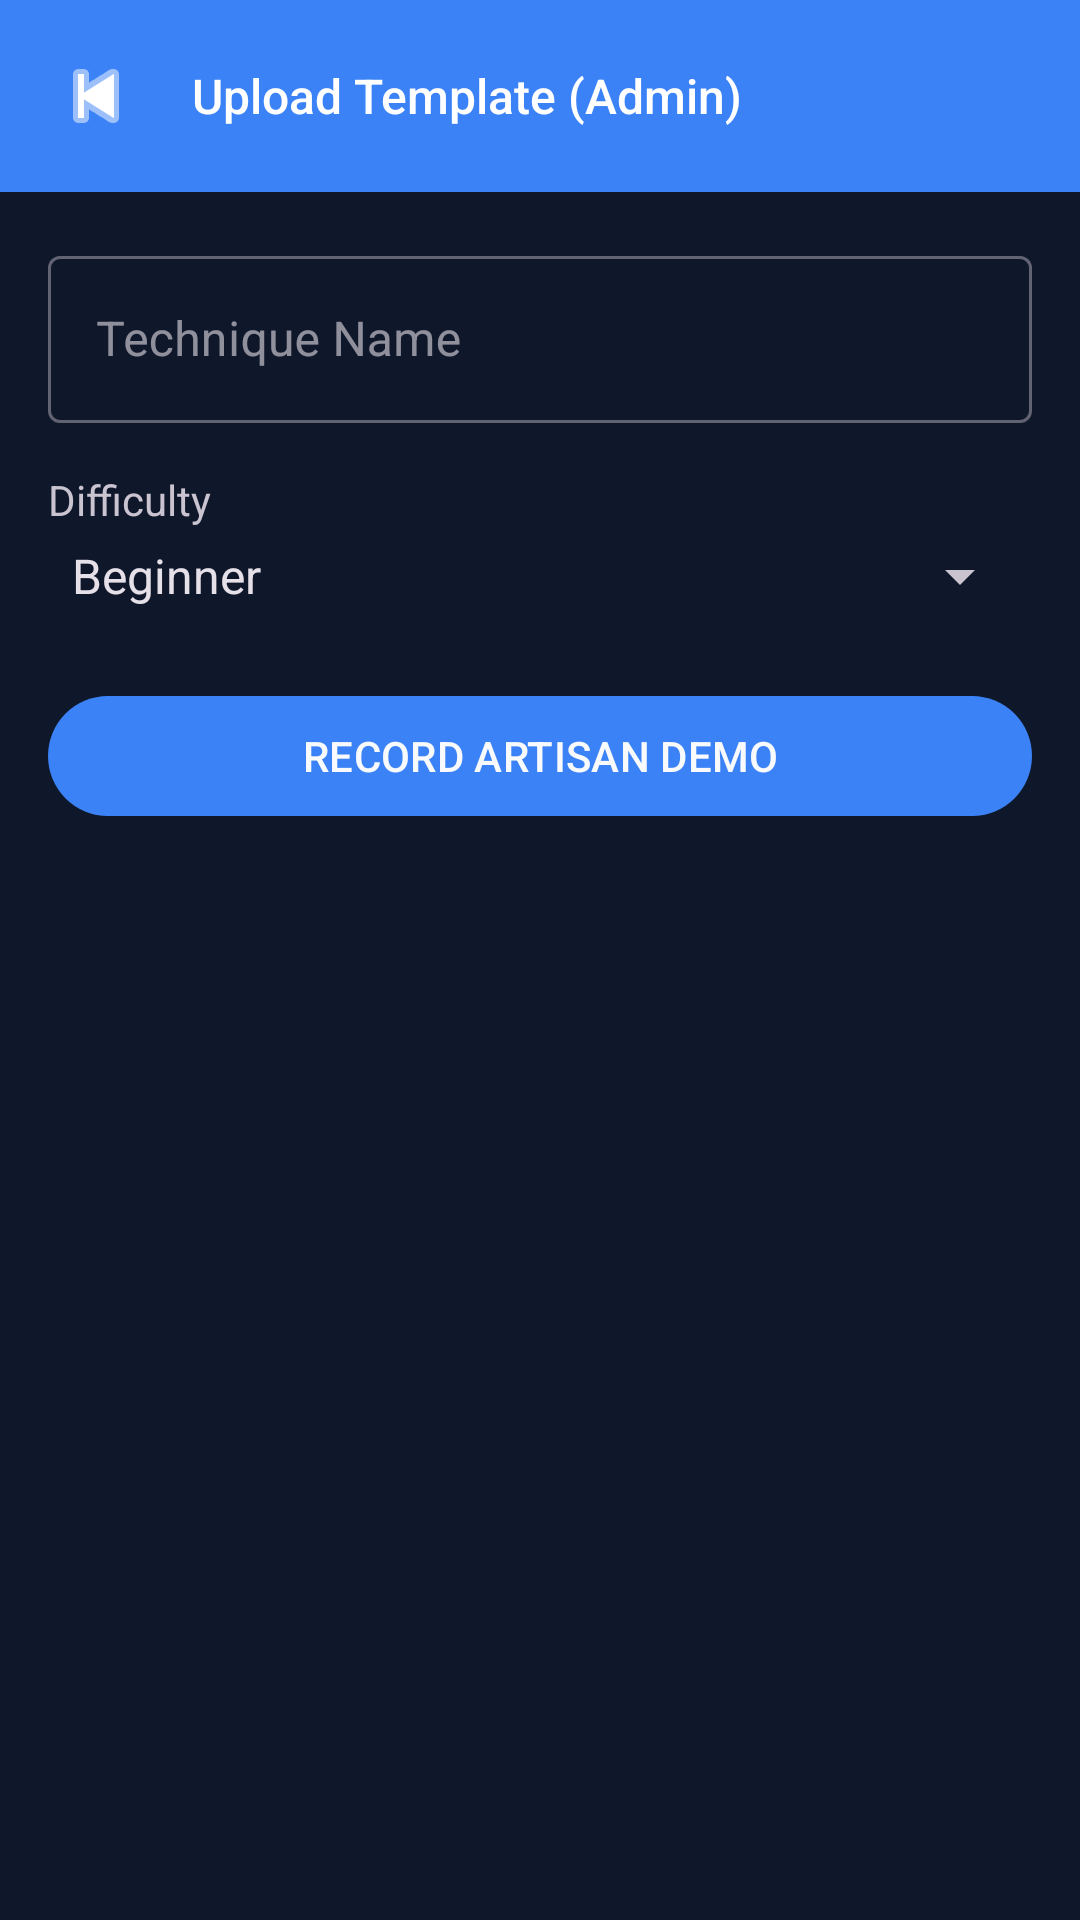

Icon click points for this 1080×1920 phone screenshot, format (x=x, y=y):
previous: (x=96, y=96)
